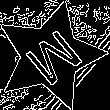M_SE: (15, 22, 85, 90)
